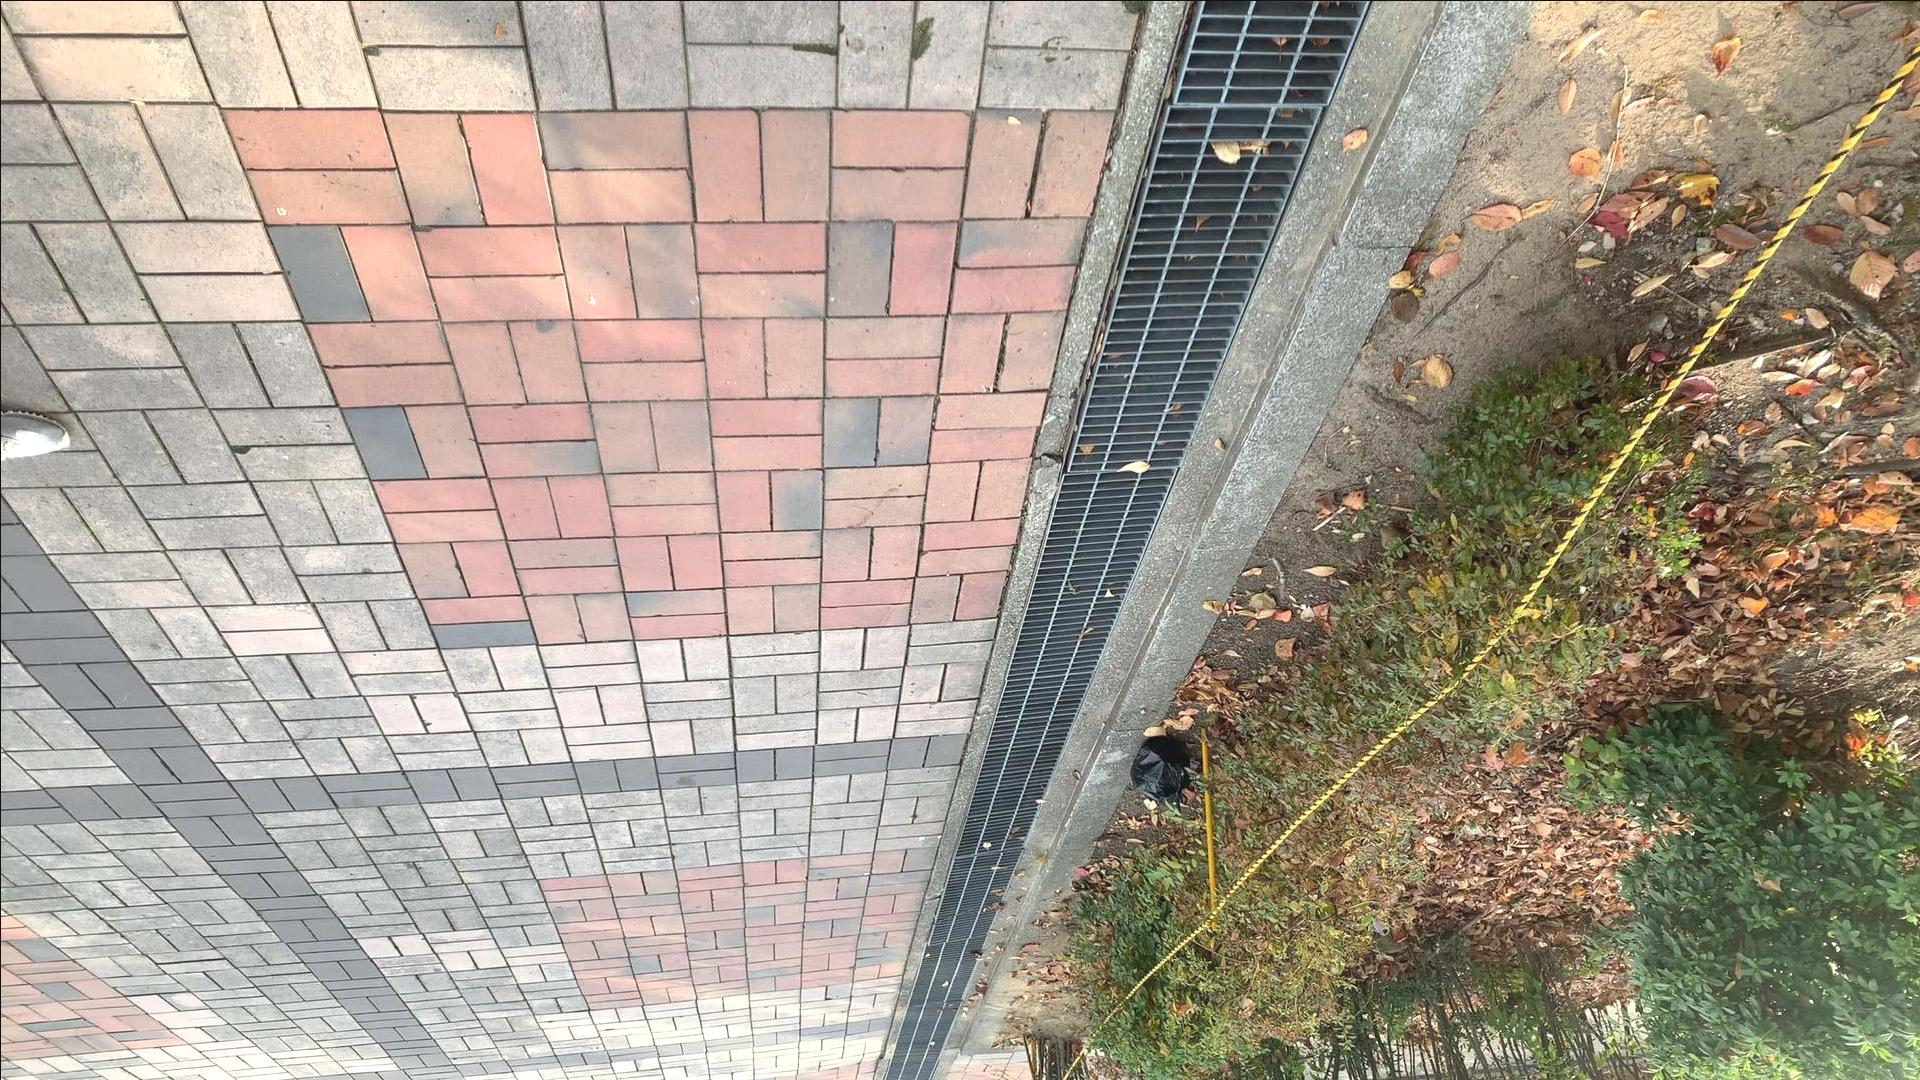black_bag: (1122, 735, 1197, 818)
